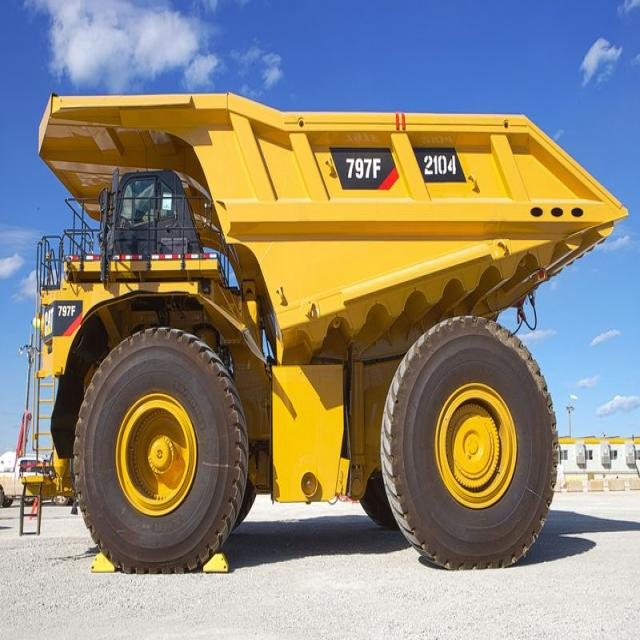dump_truck: (33, 59, 619, 571)
